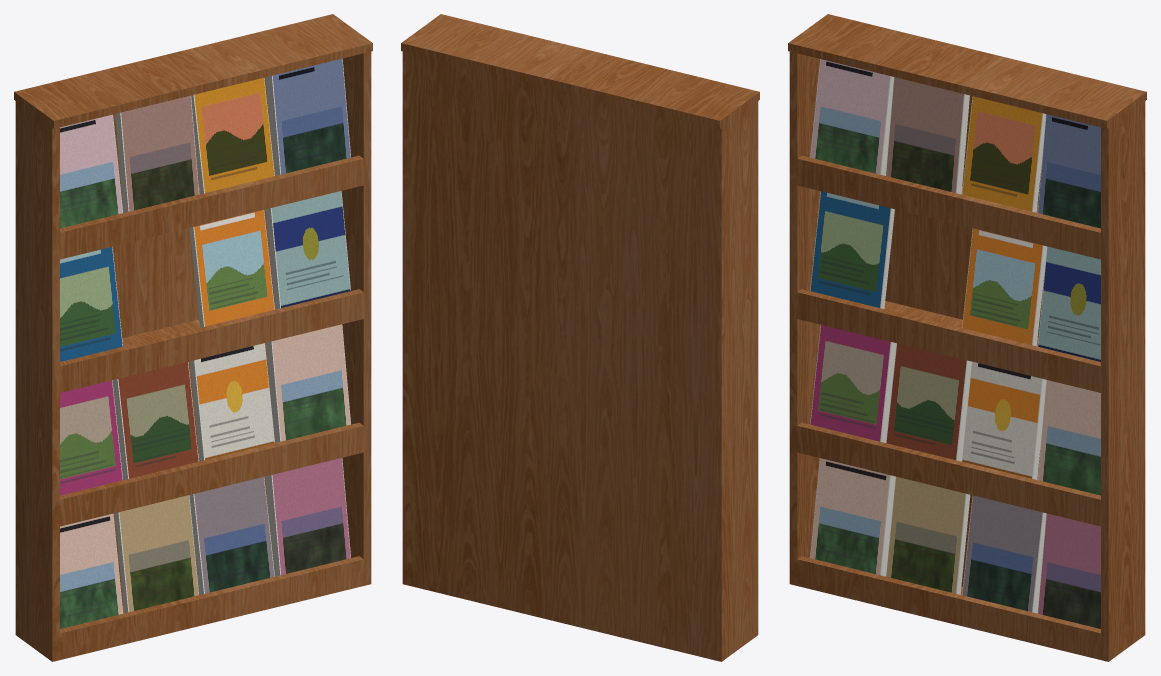
File: brochure_rack.glb
3 views of the same model, side by side, from view 1: azimuth 30°, elevation 25°; view 2: azimuth 150°, elevation 25°; view 3: azimuth 330°, elevation 25° (orthographic).
Parts seen in each view (by area): view 1: brochure_rack; view 2: brochure_rack; view 3: brochure_rack.
Part boxes in pixels (x1=…): brochure_rack: x1=14, y1=14, x2=372, y2=661; brochure_rack: x1=401, y1=14, x2=759, y2=661; brochure_rack: x1=788, y1=14, x2=1146, y2=661.
Size of the model in its own units: 0.5 by 0.812 by 0.108.
3 materials, 2 textured.
